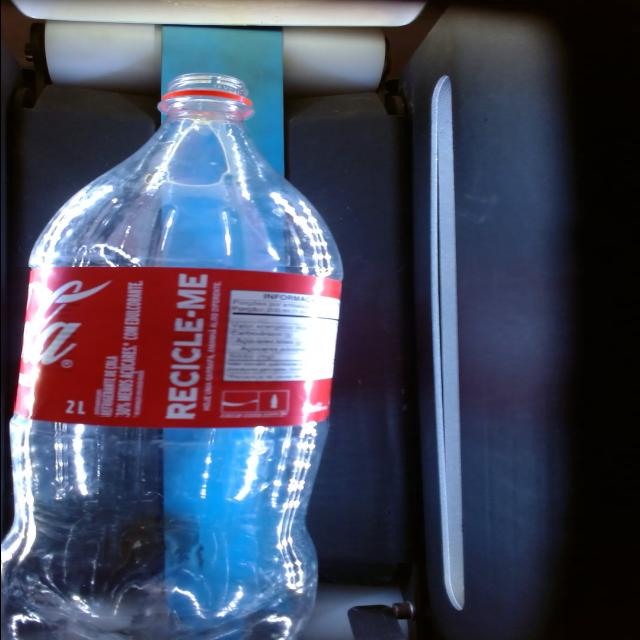bottom: (2, 416, 327, 640)
label: (14, 267, 340, 427)
neck: (29, 73, 340, 280)
